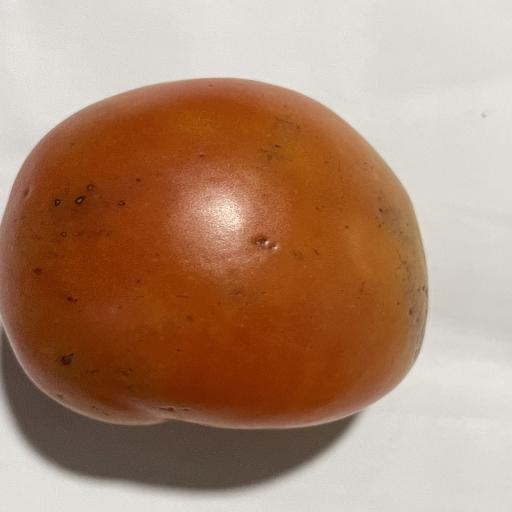ripe: (0, 78, 428, 429)
